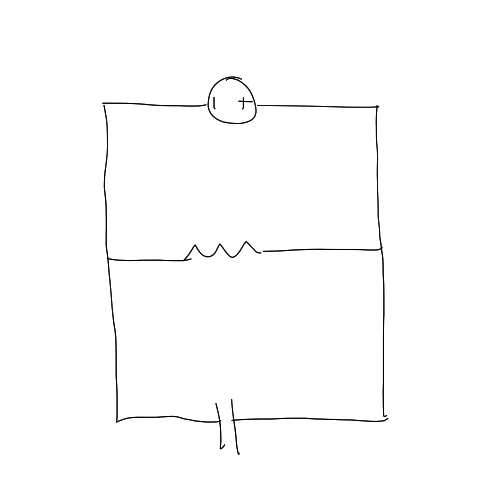cap: (208, 390, 249, 458)
dcvs: (205, 75, 261, 128)
res: (176, 239, 275, 267)
